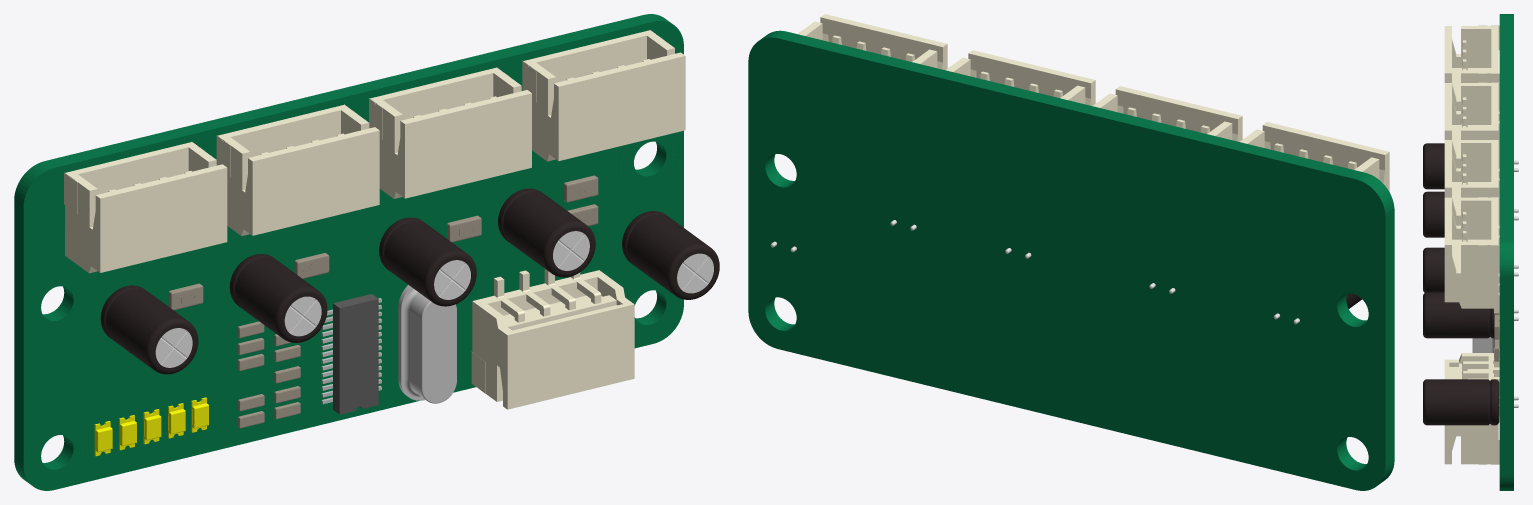
File: pcb_model.glb
3 views of the same model, side by side, from view 1: azimuth 30°, elevation 25°; view 2: azimuth 150°, elevation 25°; view 3: azimuth 270°, elevation 25° (orthographic). The views are drawn at different scales.
Parts seen in each view (by area): view 1: PCB, JST-XH4-SMD (0), JST-XH4-SMD (1), JST-XH4-SMD (4), JST-XH4-SMD (2), JST-XH4-SMD (3), HC49, EXTRUDED-44461 (1), =>[0:1:1:26], =>[0:1:1:17], =>[0:1:1:20], =>[0:1:1:23] (+7 smaller); view 2: PCB, JST-XH4-SMD (1), JST-XH4-SMD (4), JST-XH4-SMD (3), JST-XH4-SMD (2); view 3: PCB, JST-XH4-SMD (4), =>[0:1:1:14], JST-XH4-SMD (0), JST-XH4-SMD (3), JST-XH4-SMD (2), JST-XH4-SMD (1), =>[0:1:1:17], =>[0:1:1:26], =>[0:1:1:23], =>[0:1:1:20], HC49 (+2 smaller).
Part boxes in pixels (x1,y1,x2,y2): PCB: [14, 14, 683, 490]; JST-XH4-SMD (0): [471, 269, 634, 409]; JST-XH4-SMD (1): [64, 141, 227, 273]; JST-XH4-SMD (4): [522, 30, 685, 161]; JST-XH4-SMD (2): [216, 104, 379, 236]; JST-XH4-SMD (3): [369, 67, 531, 198]; HC49: [398, 285, 456, 403]; EXTRUDED-44461 (1): [333, 294, 378, 414]; =>[0:1:1:26]: [100, 285, 198, 374]; =>[0:1:1:17]: [498, 188, 595, 277]; =>[0:1:1:20]: [379, 217, 476, 306]; =>[0:1:1:23]: [229, 254, 327, 342]; PCB: [748, 30, 1394, 490]; JST-XH4-SMD (1): [1240, 122, 1389, 191]; JST-XH4-SMD (4): [797, 14, 947, 70]; JST-XH4-SMD (3): [946, 50, 1095, 105]; JST-XH4-SMD (2): [1092, 86, 1242, 141]; PCB: [1499, 14, 1513, 490]; JST-XH4-SMD (4): [1444, 197, 1499, 313]; =>[0:1:1:14]: [1423, 379, 1499, 425]; JST-XH4-SMD (0): [1444, 348, 1499, 464]; JST-XH4-SMD (3): [1444, 140, 1499, 244]; JST-XH4-SMD (2): [1444, 82, 1499, 187]; JST-XH4-SMD (1): [1444, 25, 1499, 130]; =>[0:1:1:17]: [1423, 292, 1499, 338]; =>[0:1:1:26]: [1423, 143, 1444, 189]; =>[0:1:1:23]: [1423, 191, 1444, 237]; =>[0:1:1:20]: [1423, 247, 1444, 292]; HC49: [1472, 314, 1499, 352].
Size of the model in its own units: 0.065 by 0.0303 by 0.0107.
